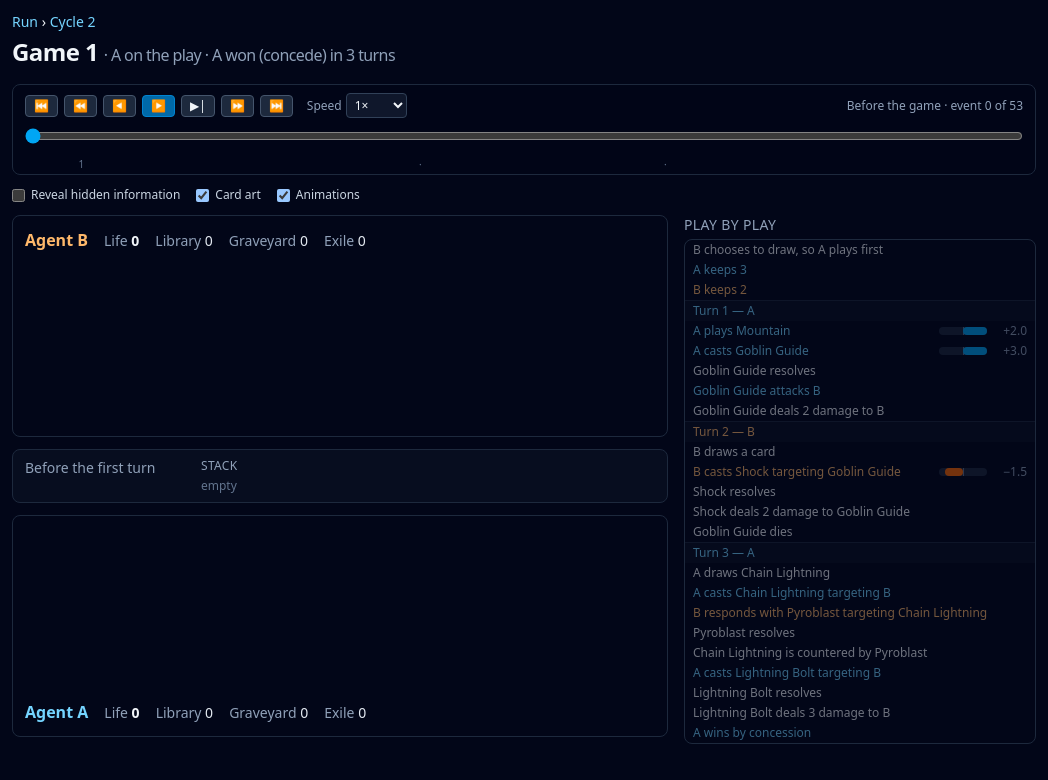
Test: the replay of a game › keeps B’s hand face down until hidden information is revealed
Expected: the element named "Transport" is shown, 12,84 -> 1036,175
Click the button named "Next turn" at [237, 106], box 221,94 -> 254,116
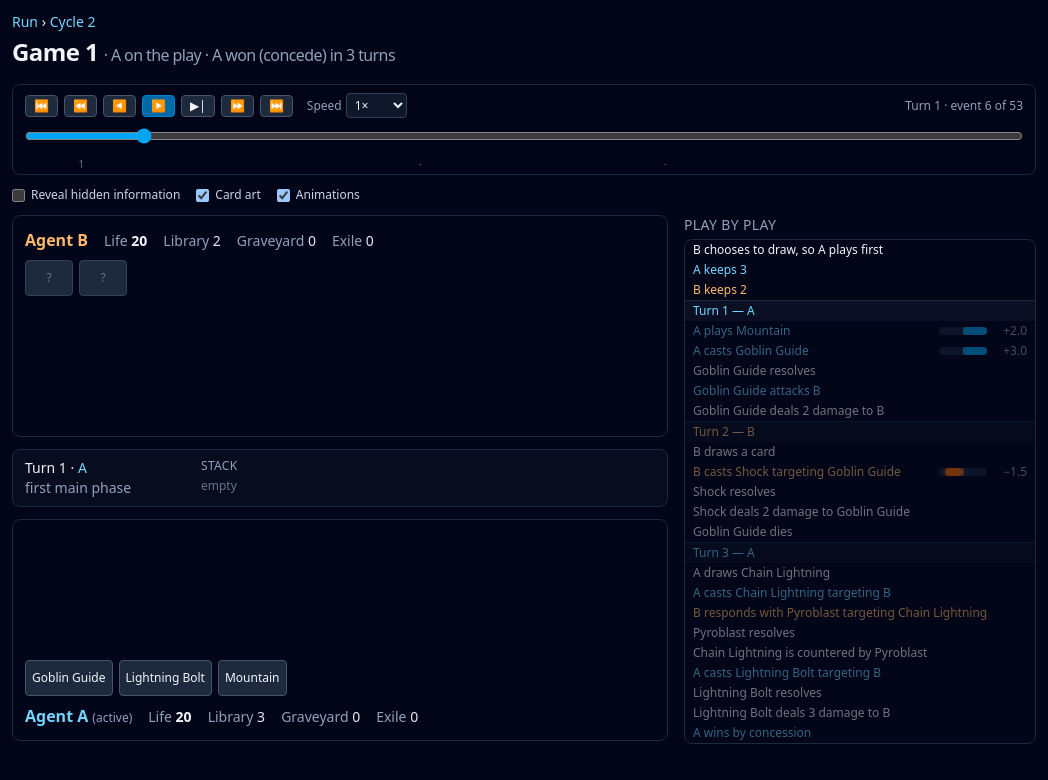
Expected: the text "B draws Forest" is not shown
Result: the number of elements with test id "hidden-card" is 2 at 25,260 -> 73,296; 79,260 -> 127,296
Click the checkbox labelled "Reveal hidden information" at [18, 195], box 12,188 -> 25,202
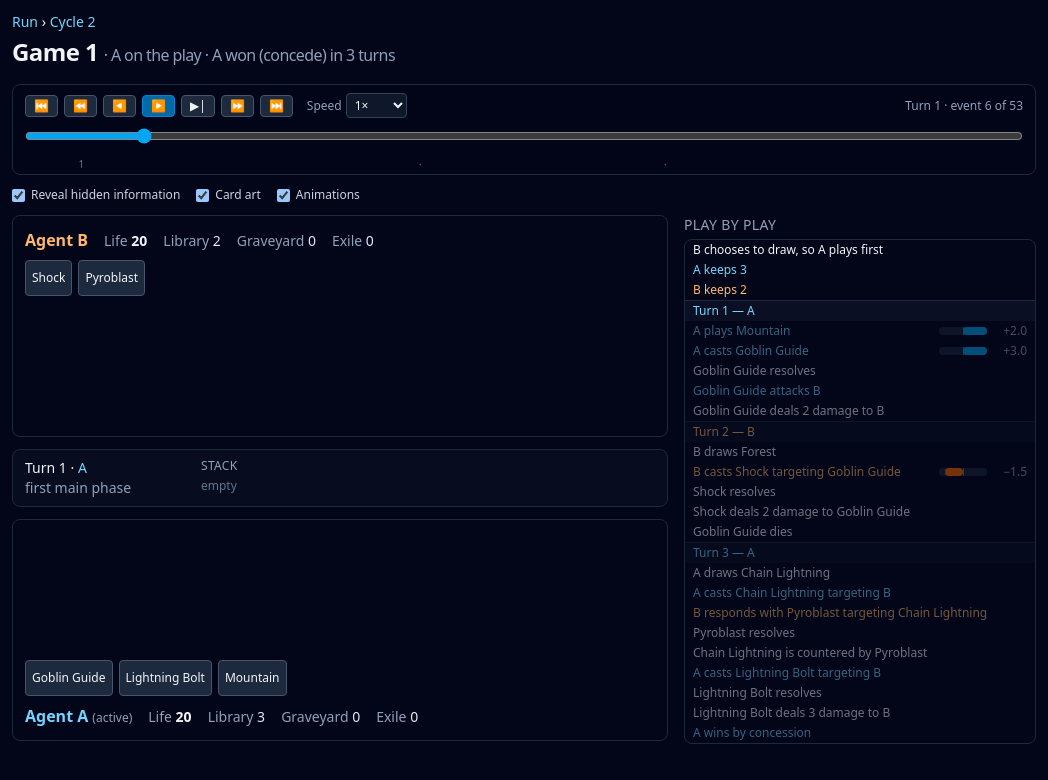
Result: the buttons read "Shock", "Pyroblast", in this order at 25,260 -> 72,296; 78,260 -> 145,296
Result: the text "B draws Forest" is shown at 693,443 -> 776,460
